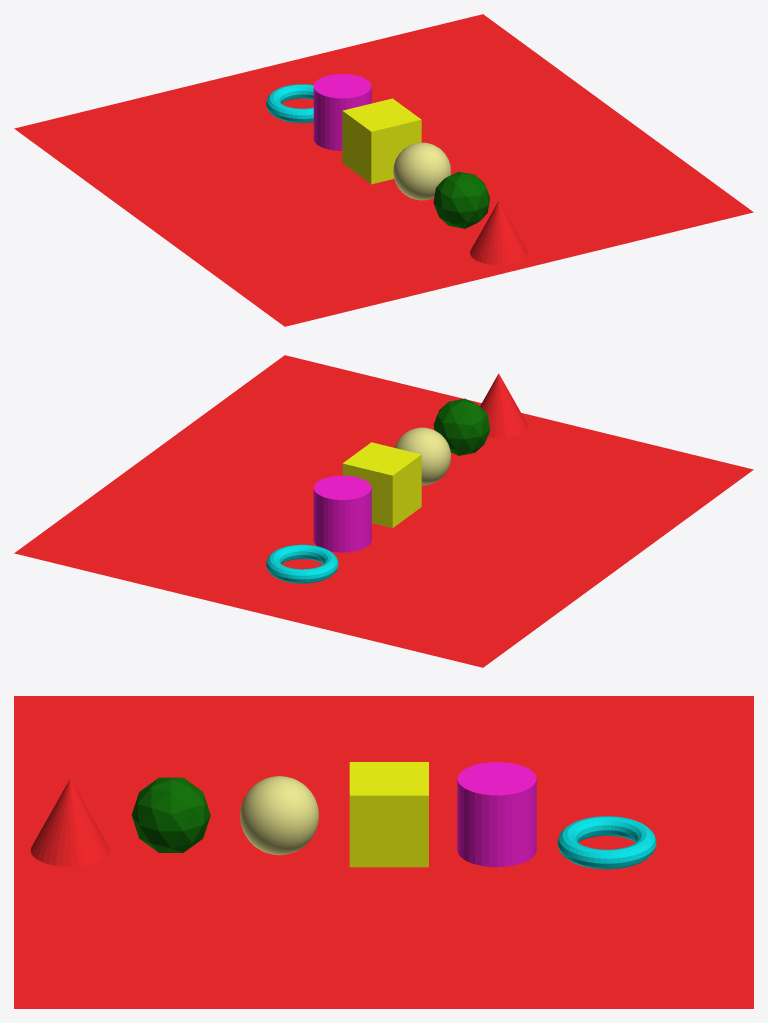
The model's file is struc.gltf.
3 views of the same model, one above another, from view 1: azimuth 30°, elevation 25°; view 2: azimuth 150°, elevation 25°; view 3: azimuth 270°, elevation 25° (orthographic). The views are drawn at different scales.
Visible parts, largest first — view 1: Plane, Cube, Cylinder, Sphere, Icosphere, Cone, Torus; view 2: Plane, Cube, Cylinder, Icosphere, Torus, Sphere, Cone; view 3: Plane, Cube, Cylinder, Sphere, Icosphere, Cone, Torus.
Part boxes in pixels (x1,y1,x2,y2): Plane: (14,14,753,326); Cube: (342,98,421,184); Cylinder: (313,74,371,150); Sphere: (393,142,450,200); Icosphere: (433,171,489,228); Cone: (470,201,527,264); Torus: (266,84,313,122); Plane: (14,355,753,667); Cube: (342,442,421,528); Cylinder: (313,475,371,552); Icosphere: (433,398,490,455); Torus: (266,544,338,583); Sphere: (394,427,450,485); Cone: (480,373,527,437); Plane: (14,696,753,1008); Cube: (349,762,428,867); Cylinder: (457,762,536,867); Sphere: (240,776,318,855); Icosphere: (131,777,210,852); Cone: (30,779,109,866); Torus: (557,816,656,869).
Bounding box in the file's own units: 18.69 × 2.06 × 18.69.
